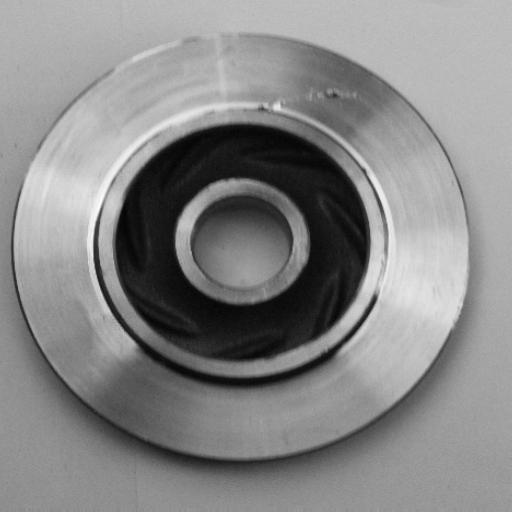crack: (237, 76, 357, 122)
scratch: (368, 207, 399, 317)
unpolished_casting: (12, 29, 472, 464)
